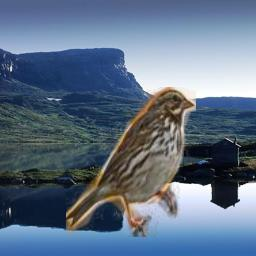Sparrow: (66, 87, 196, 237)
